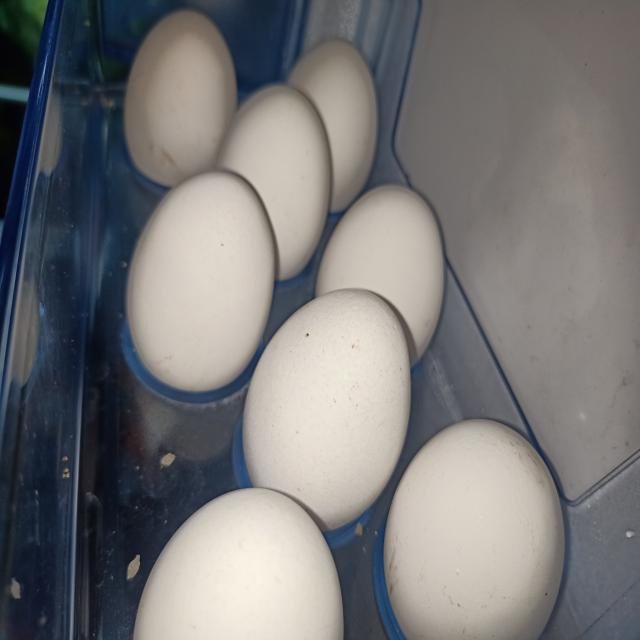Egg: (233, 284, 427, 548), (375, 413, 574, 640), (117, 170, 278, 411), (129, 487, 347, 640), (312, 177, 462, 386), (218, 86, 334, 283), (120, 3, 240, 191), (286, 31, 381, 211)
